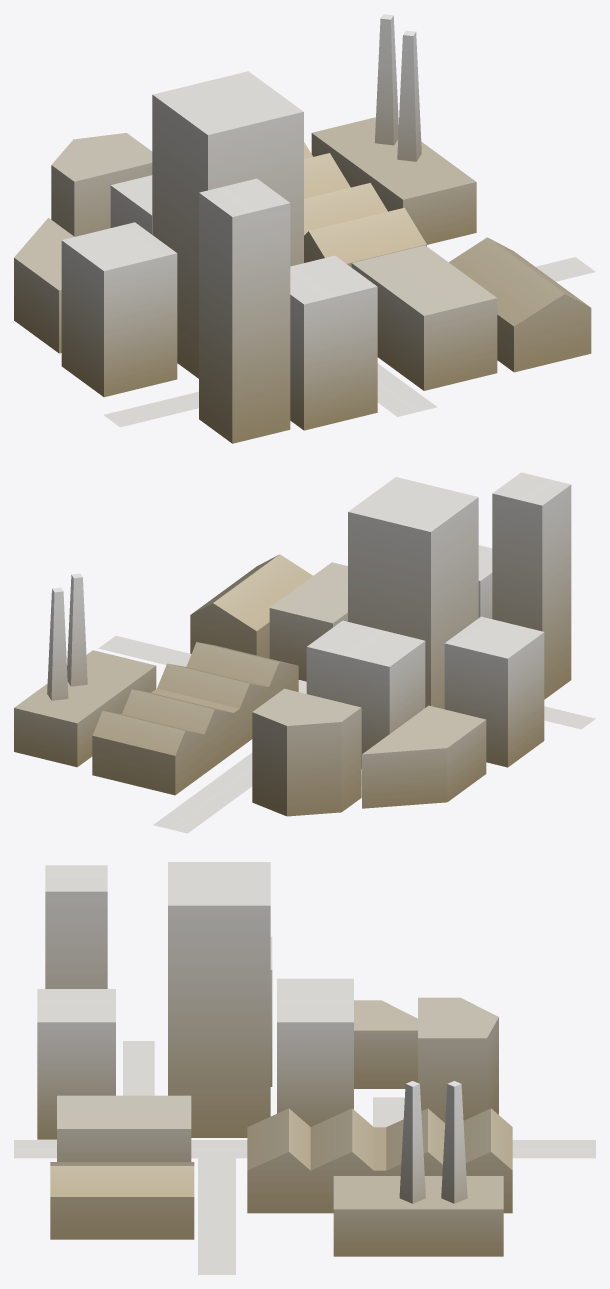
Rendered from SM_CitySelection_01.fbx.
The picture shows the model from 3 angles, top to bottom: view 1: azimuth 30°, elevation 25°; view 2: azimuth 150°, elevation 25°; view 3: azimuth 270°, elevation 25°; orthographic projection. The views are drawn at different scales.
Parts seen in each view (by area): view 1: SM_CitySelection_01; view 2: SM_CitySelection_01; view 3: SM_CitySelection_01.
Boxes of the visible parts, x1,y1,x2,y2 form: SM_CitySelection_01: [14, 14, 595, 443]; SM_CitySelection_01: [14, 472, 595, 833]; SM_CitySelection_01: [14, 862, 595, 1274].
Bounding box in the file's own units: 1.69 × 0.7821 × 1.77.
